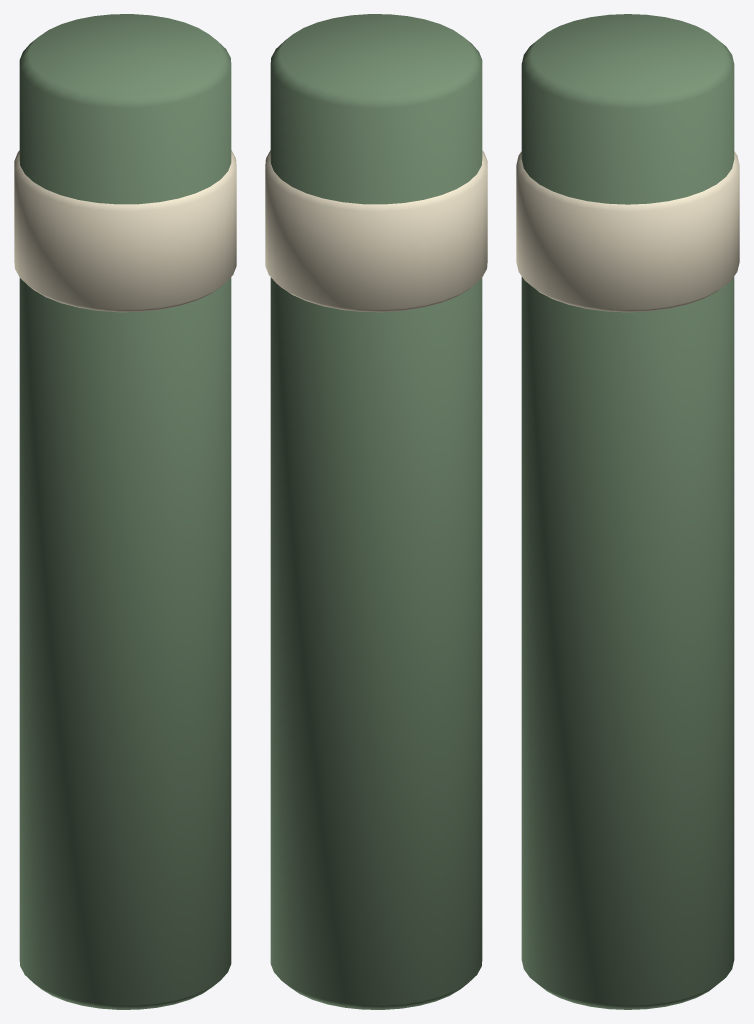
File: SM_EG_SafetyBollard_e60962836a.fbx
3 views of the same model, side by side, from view 1: azimuth 30°, elevation 25°; view 2: azimuth 150°, elevation 25°; view 3: azimuth 270°, elevation 25° (orthographic).
Parts seen in each view (by area): view 1: SM_EG_SafetyBollard_e60962836a; view 2: SM_EG_SafetyBollard_e60962836a; view 3: SM_EG_SafetyBollard_e60962836a.
Boxes of the visible parts, x1,y1,x2,y2 form: SM_EG_SafetyBollard_e60962836a: (14,14,236,1009); SM_EG_SafetyBollard_e60962836a: (265,14,487,1009); SM_EG_SafetyBollard_e60962836a: (516,14,739,1009).
Bounding box in the file's own units: 21 × 21 × 95.
